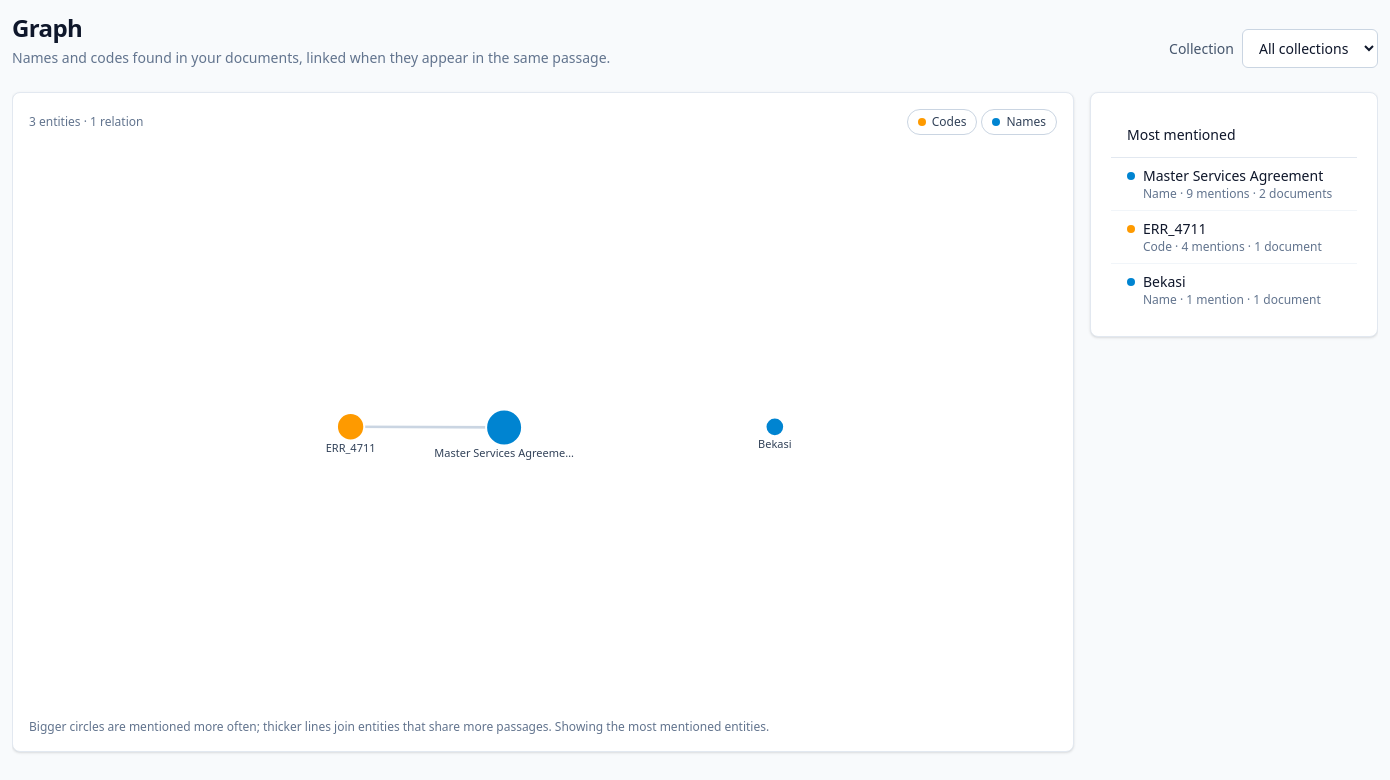
Test case: GraphView › hides and shows entity types
Click the button "Codes" at (942, 122), box 907,109 -> 978,135
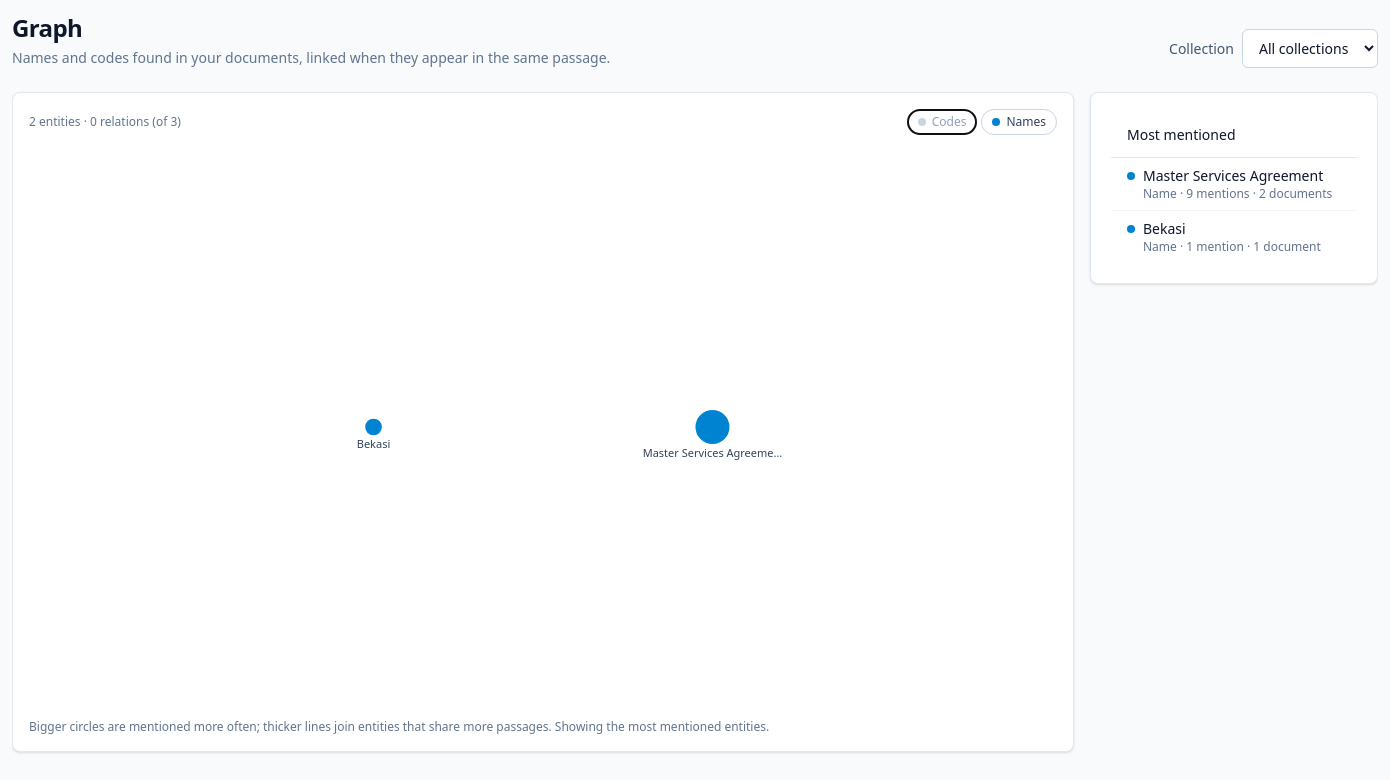
Result: the icon "ERR_4711" is gone
Result: the text "2 entities · 0 relations (of 3)" is shown at 29,114 -> 181,130
Click the button "Names" at (1019, 122), box 981,109 -> 1057,135
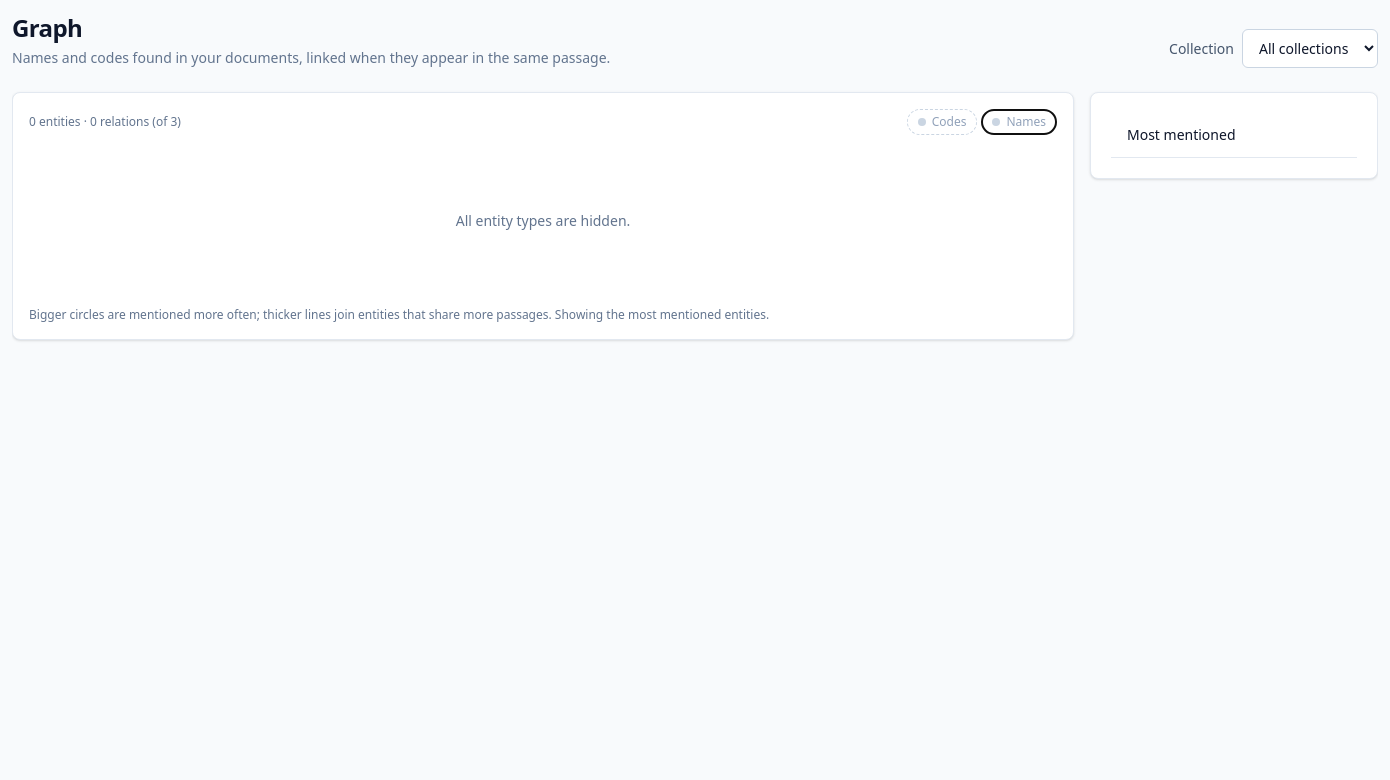
Result: the text "All entity types are hidden." is shown at 456,211 -> 630,230
